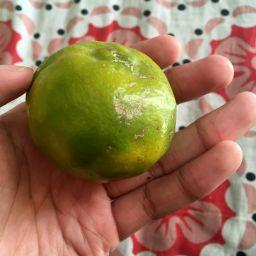Unripe: (26, 41, 176, 185)
